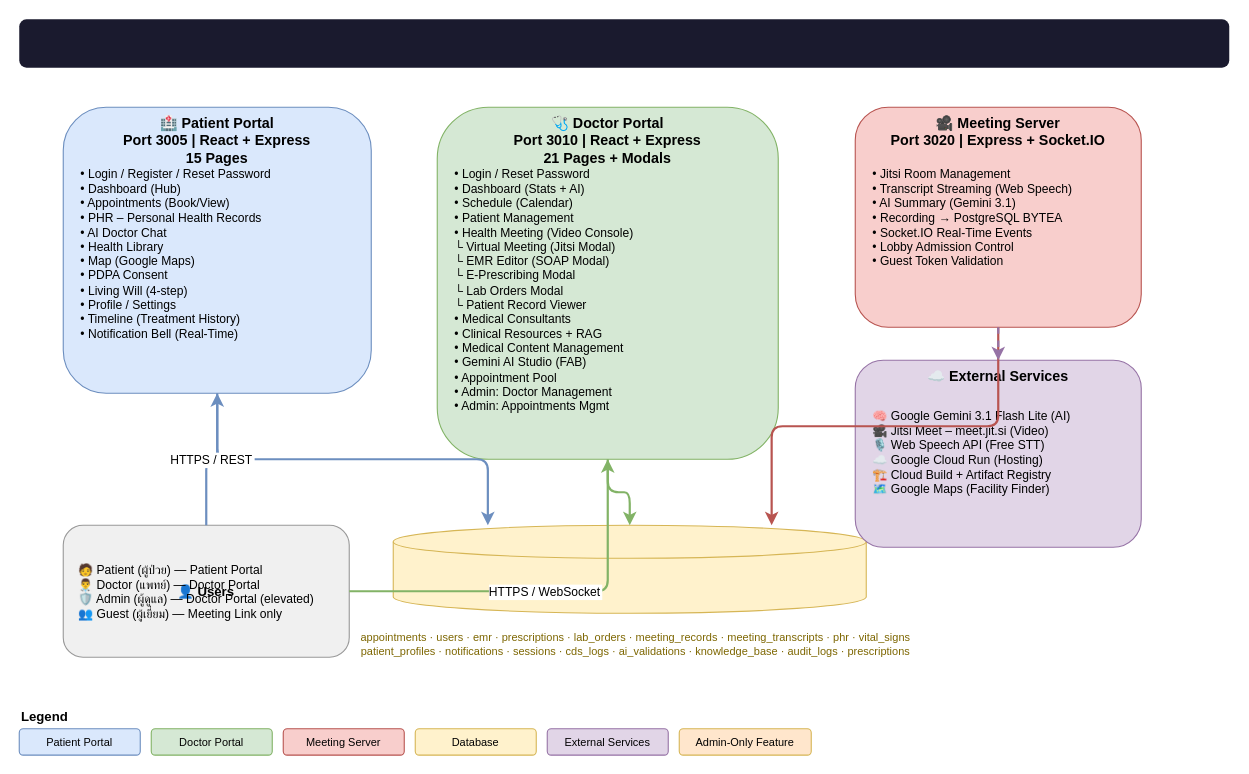
This 1249x774 diagram has some shape labels left out. Each missing label, with the centre of its shape:
Isara Anywhere — Platform Architecture Overview: the point at 624,43
🗄️ PostgreSQL 18 + pgvector | Database: izara_phase1 | 42 Tables: the point at 629,568
